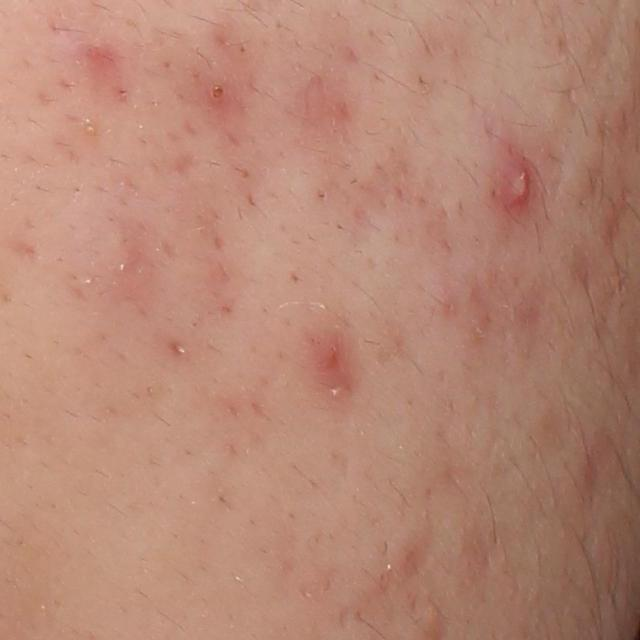atrophic_scar: (165, 340, 191, 360)
papule: (317, 338, 352, 379), (205, 76, 233, 107)
pustule: (493, 157, 536, 215)
